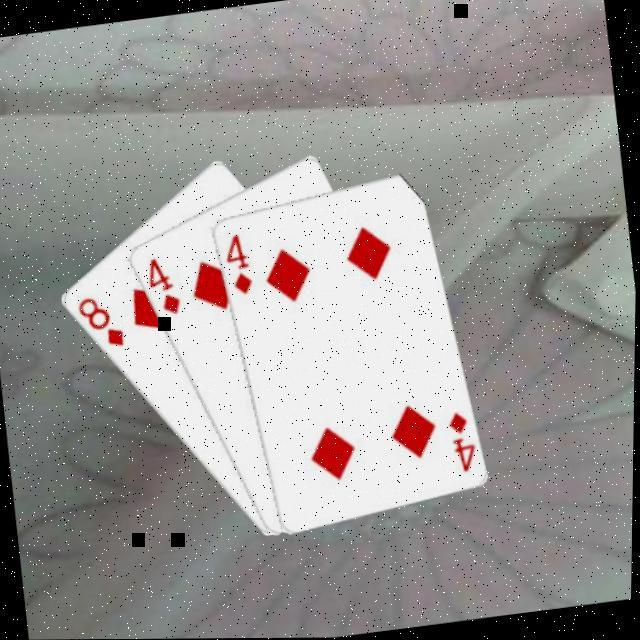4D: (141, 251, 186, 319), (444, 406, 482, 476), (220, 228, 258, 297)
8D: (73, 288, 131, 354)
